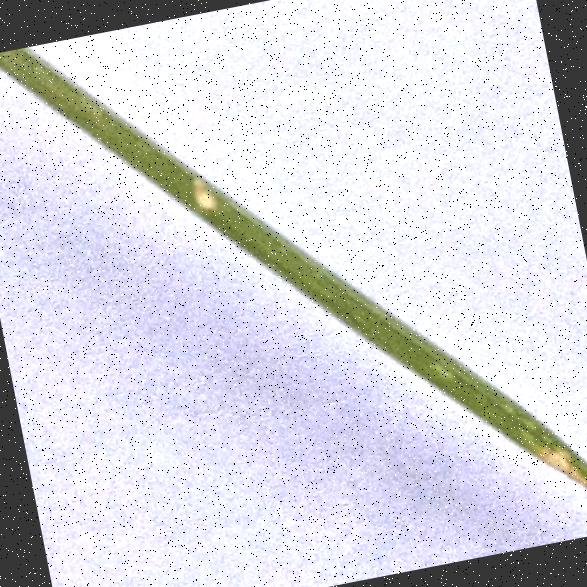Leaf_smut: (419, 320, 587, 558), (174, 158, 231, 228)
